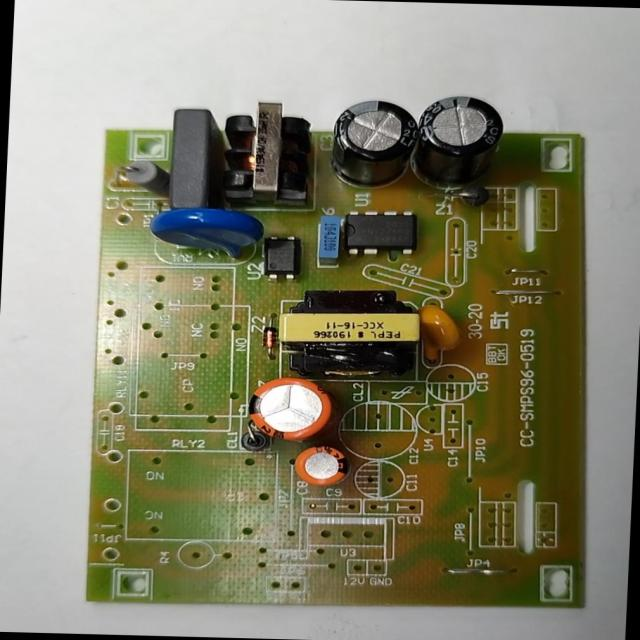Cap1: (246, 376, 331, 444)
Cap2: (292, 443, 353, 490)
Cap3: (328, 98, 420, 186)
Cap4: (414, 94, 506, 194)
MOSFET: (341, 207, 419, 261)
Mov: (145, 208, 264, 266)
Resistor: (119, 157, 171, 201)
Transformer: (274, 287, 427, 382), (219, 98, 312, 202)
